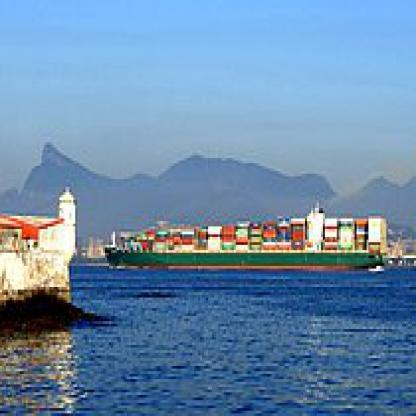Container Ship: (102, 200, 389, 271)
